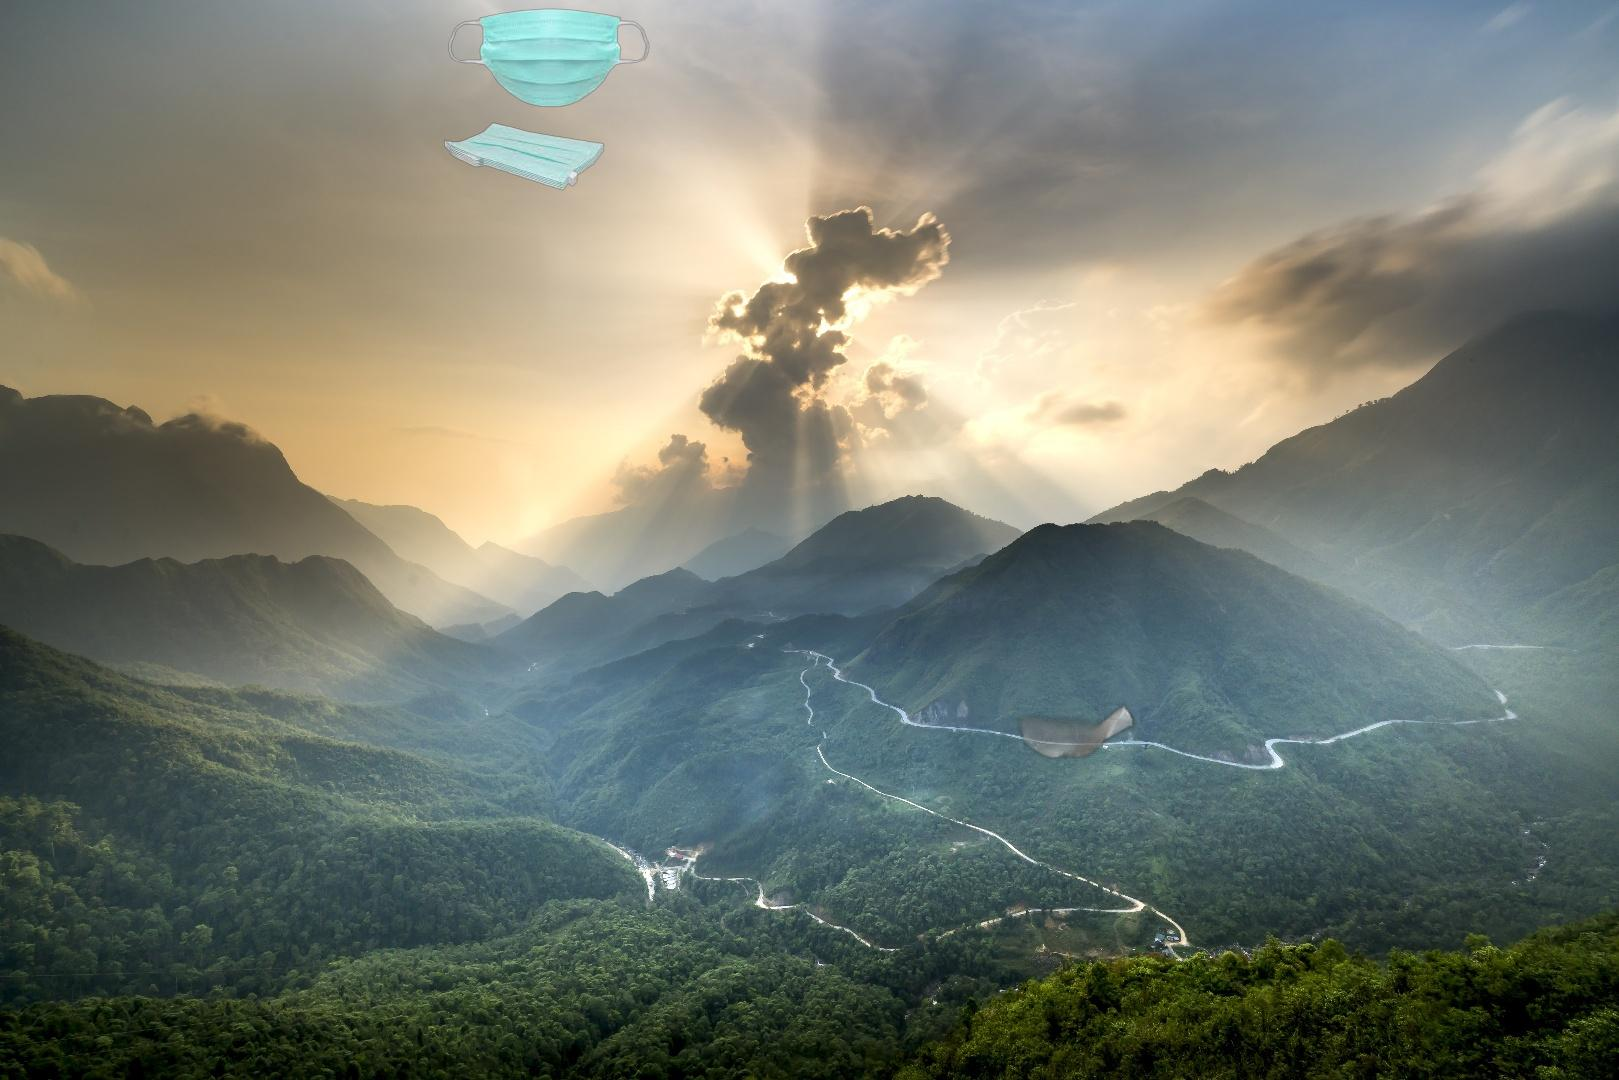glass: (1470, 359, 1619, 1041)
paper: (717, 551, 1228, 762)
trash: (442, 6, 652, 193)
